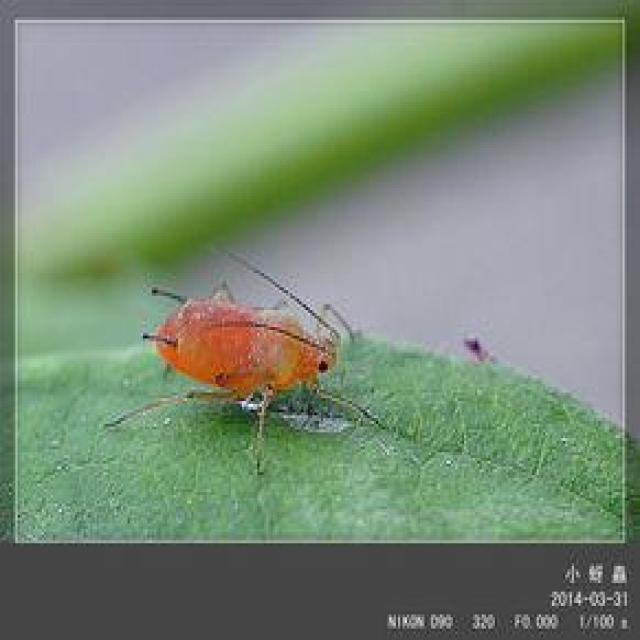Aphids: (106, 246, 397, 470)
